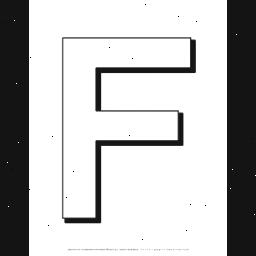f: (58, 36, 200, 222)
